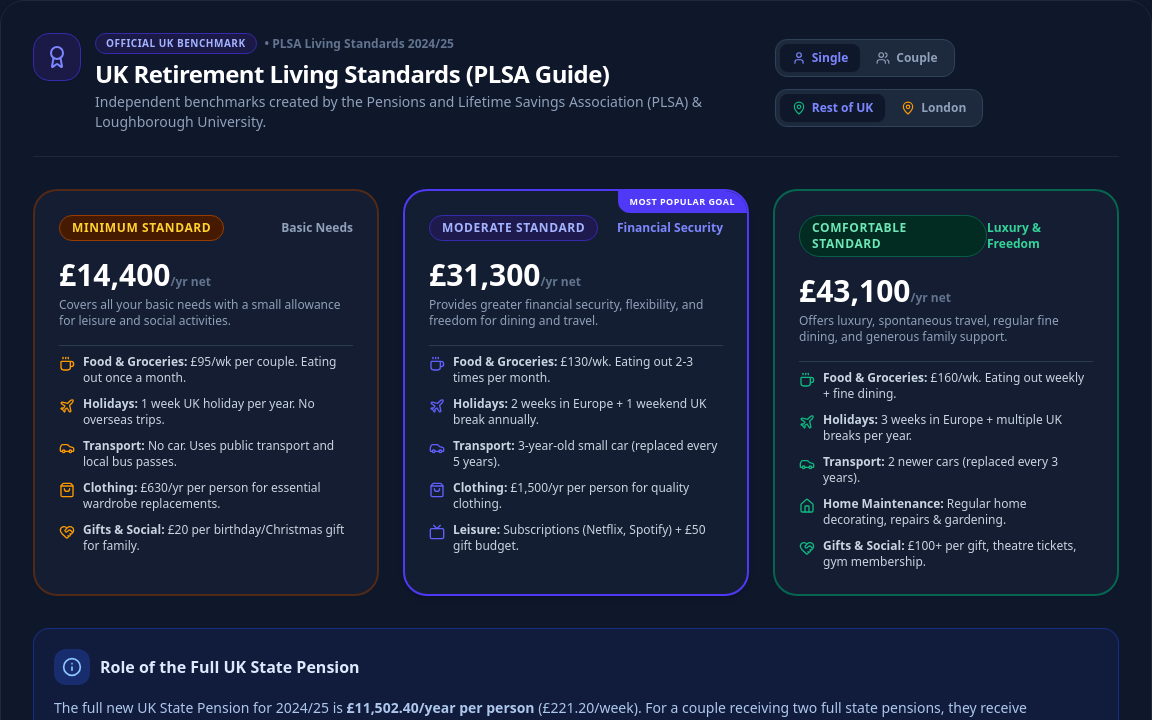
Test: RetirementLivingStandardsCard › switches between Single and Couple modes manually
Click the button "Couple" at (907,58), box [864, 44, 950, 72]
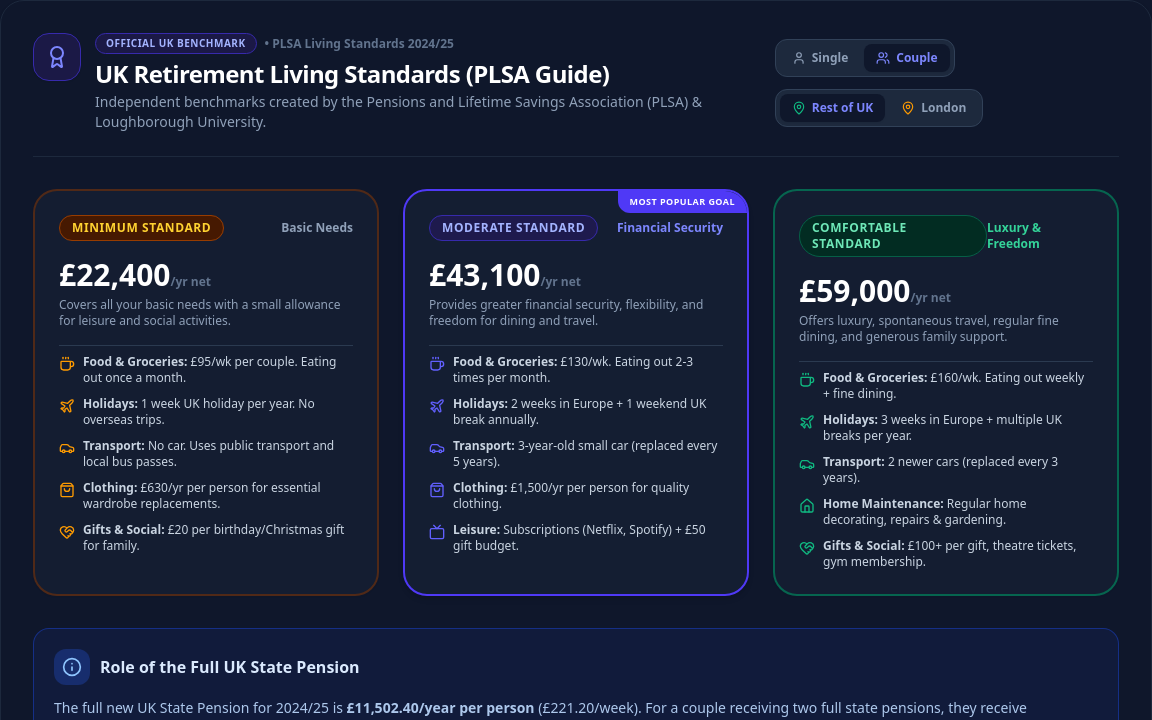
Result: the text "£22,400" is shown at [59, 254, 170, 295]
Click the button "Single" at (820,58), box [780, 44, 860, 72]
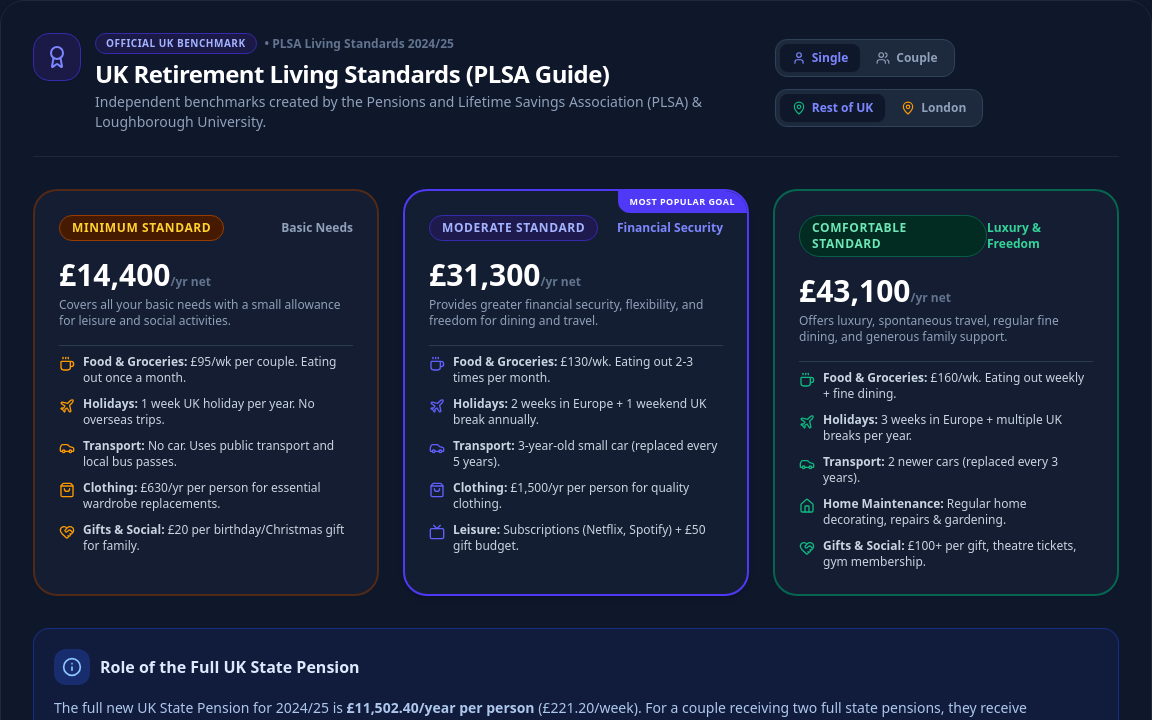
Result: the text "£14,400" is shown at [59, 254, 170, 295]
